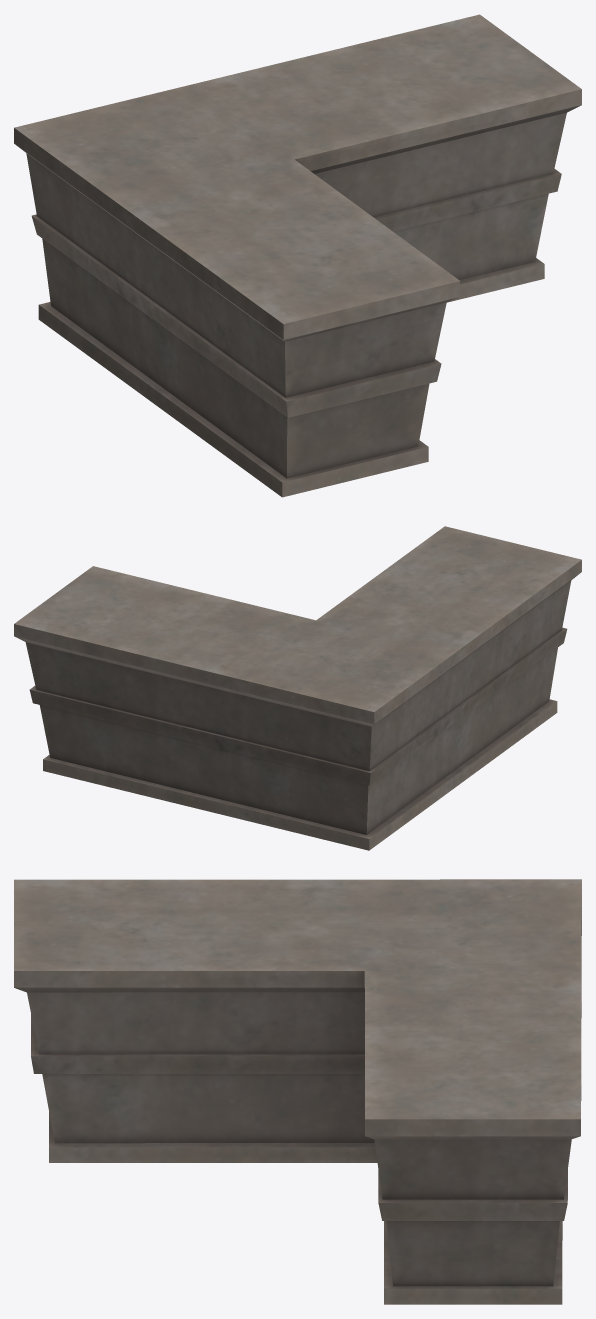
Rendered from sb_obj_outdoor009_AncientTemple_WallTopD_col.fbx.
3 renders of one model, top to bottom at view 1: azimuth 30°, elevation 25°; view 2: azimuth 150°, elevation 25°; view 3: azimuth 270°, elevation 25°, orthographic. The views are drawn at different scales.
Parts seen in each view (by area): view 1: sb_obj_outdoor009_AncientTemple_WallTopD_col; view 2: sb_obj_outdoor009_AncientTemple_WallTopD_col; view 3: sb_obj_outdoor009_AncientTemple_WallTopD_col.
Boxes of the visible parts, box(x1,y1,x2,y2) form: sb_obj_outdoor009_AncientTemple_WallTopD_col: box(14, 14, 581, 497); sb_obj_outdoor009_AncientTemple_WallTopD_col: box(14, 526, 581, 850); sb_obj_outdoor009_AncientTemple_WallTopD_col: box(14, 879, 581, 1304).
Size of the model in its own units: 5.11 by 1.98 by 5.11.
